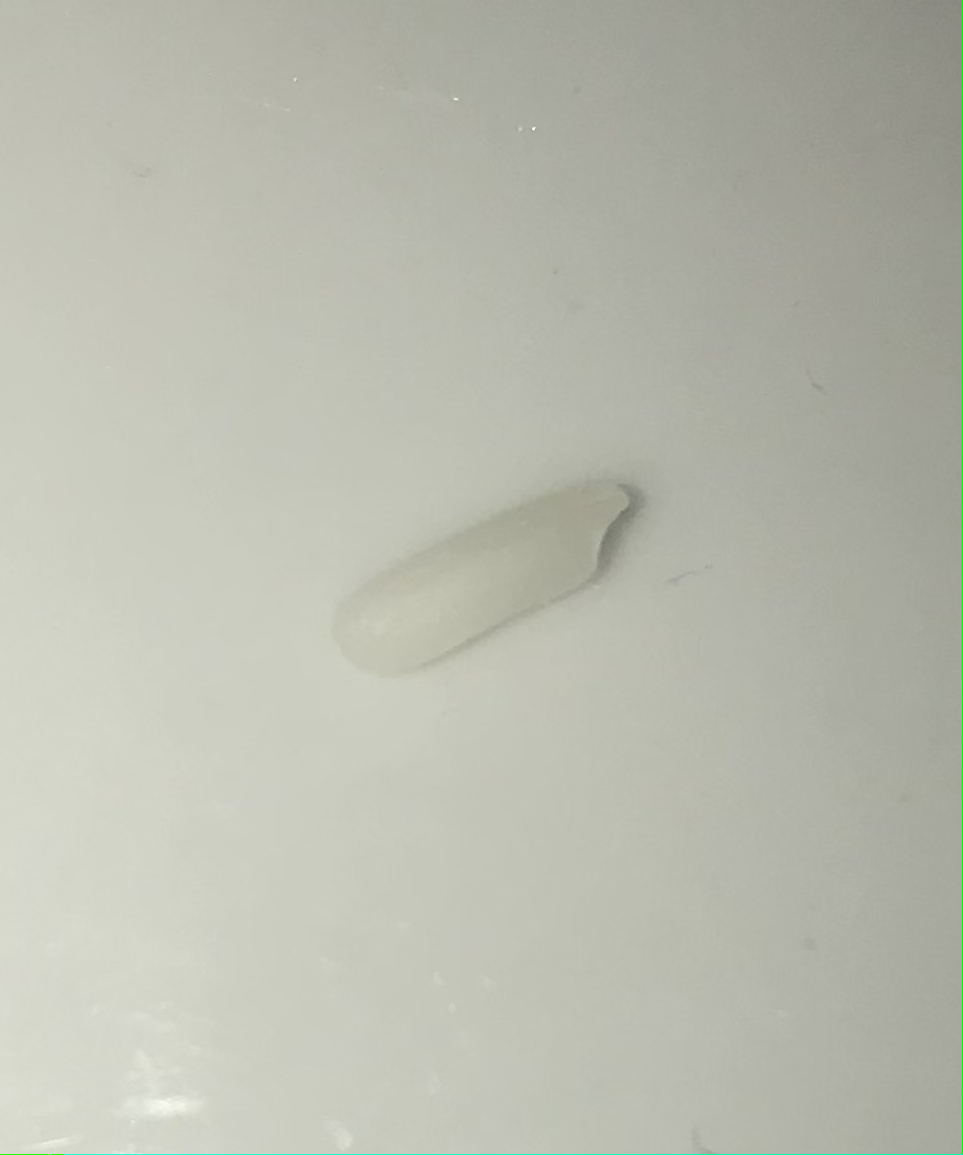Gao Thom Go Cong: (310, 450, 650, 686)
